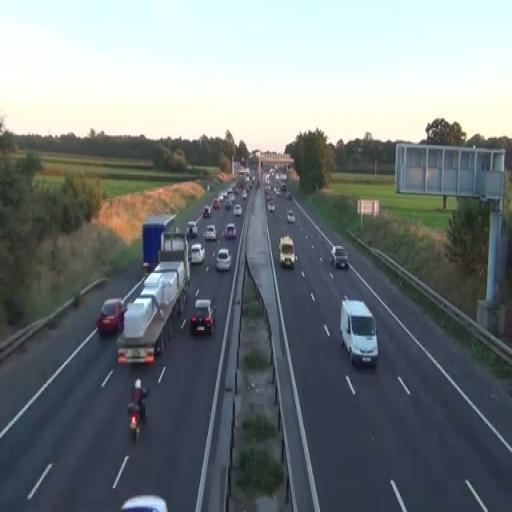Car: (96, 298, 126, 335), (190, 298, 214, 336), (330, 246, 348, 270), (216, 248, 232, 272), (190, 242, 205, 266), (204, 224, 216, 242), (226, 223, 236, 239), (234, 204, 242, 216)
Motorcycle: (128, 405, 142, 443)
Truck: (340, 295, 378, 368), (141, 214, 175, 274), (278, 235, 295, 268)
